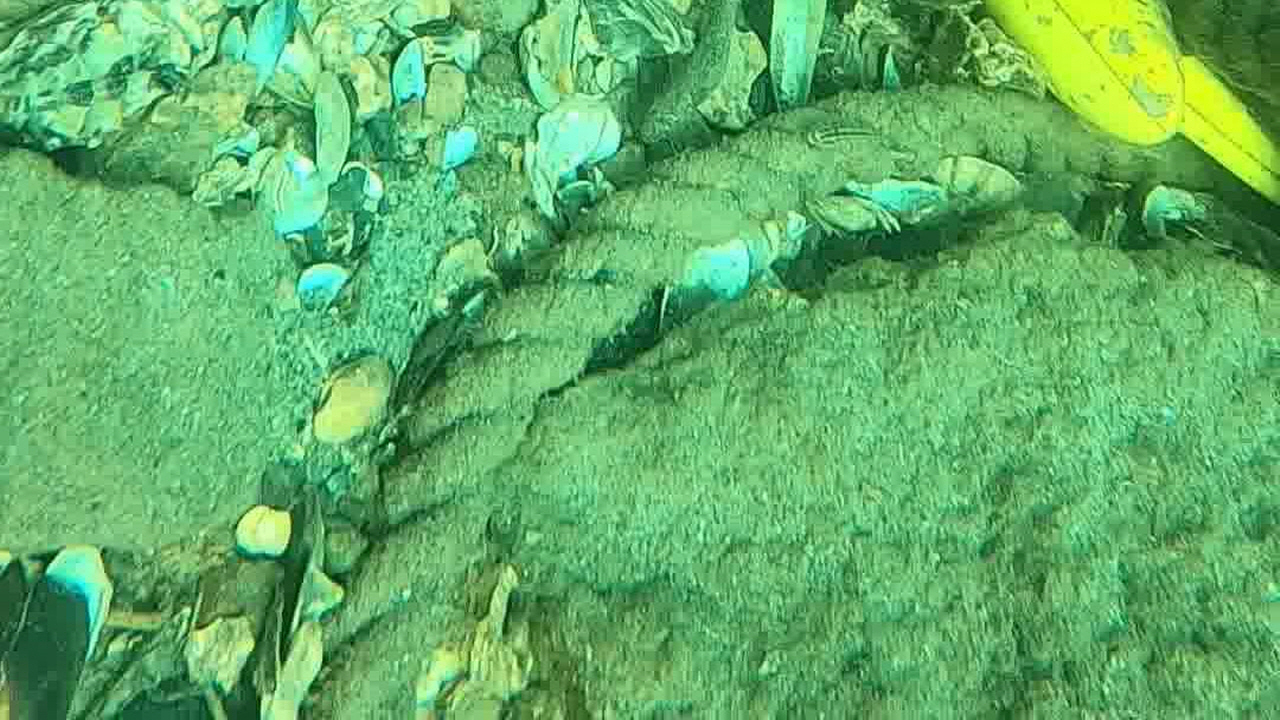othe objects: (935, 1, 1280, 209)
rope: (297, 84, 1223, 720)
